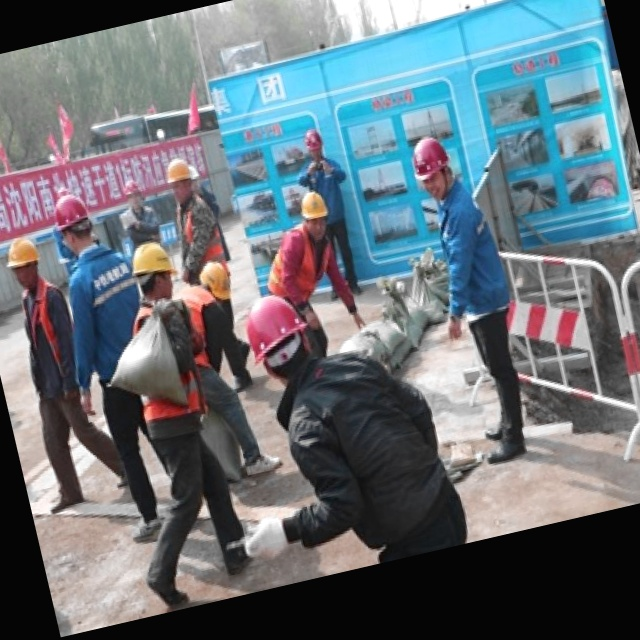Con_Casco: (128, 239, 184, 305), (408, 134, 457, 198), (2, 235, 45, 287)
